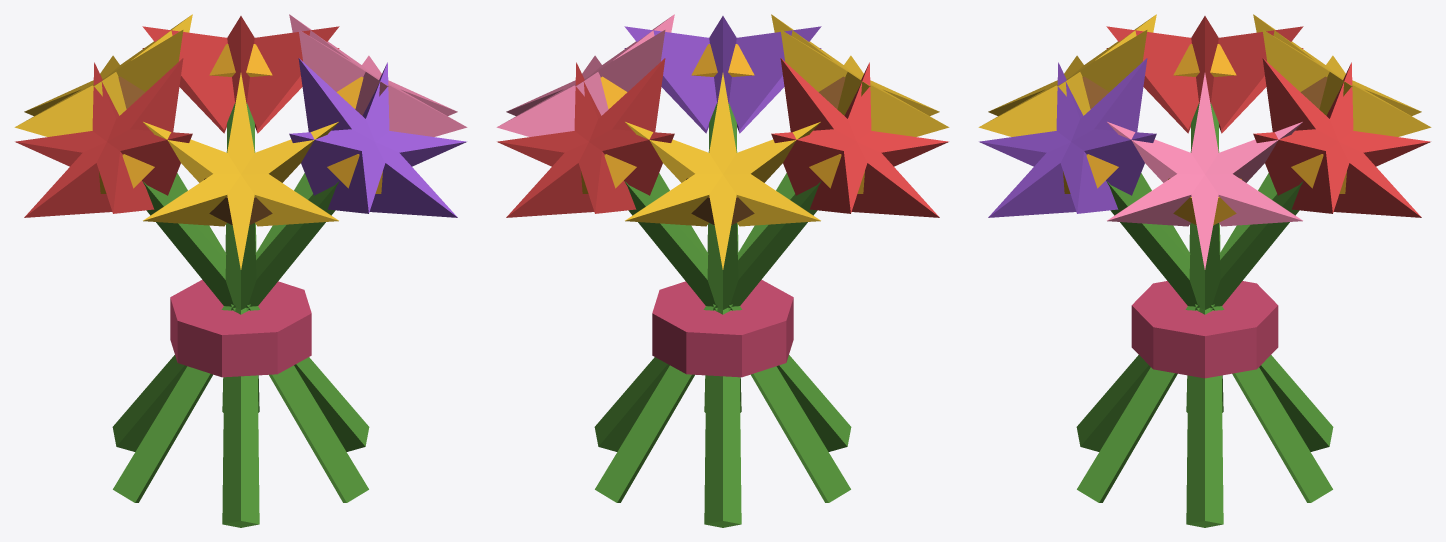
File: flowers-crop.glb
3 views of the same model, side by side, from view 1: azimuth 30°, elevation 25°; view 2: azimuth 150°, elevation 25°; view 3: azimuth 270°, elevation 25° (orthographic).
Visible parts, largest first — view 1: flowers-crop; view 2: flowers-crop; view 3: flowers-crop.
Boxes of the visible parts, x1,y1,x2,y2 form: flowers-crop: [14, 14, 467, 527]; flowers-crop: [496, 14, 949, 527]; flowers-crop: [978, 14, 1431, 527].
Size of the model in its own units: 0.3768 by 0.3602 by 0.3404.
Materials: 1 (1 with a texture image).
